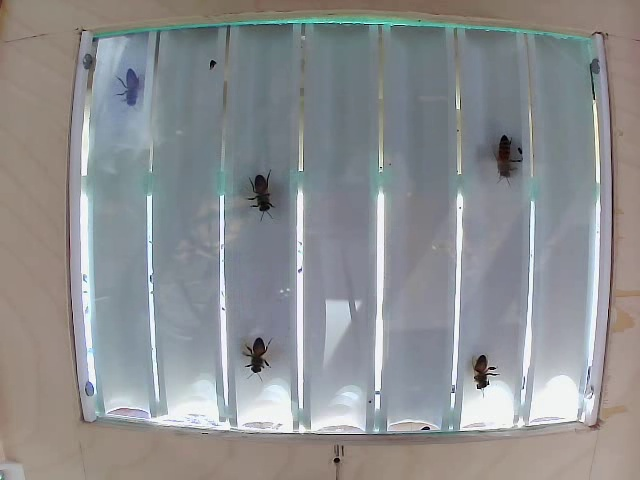bee: (238, 171, 279, 218), (243, 333, 278, 383), (465, 351, 497, 392), (490, 128, 513, 177)
